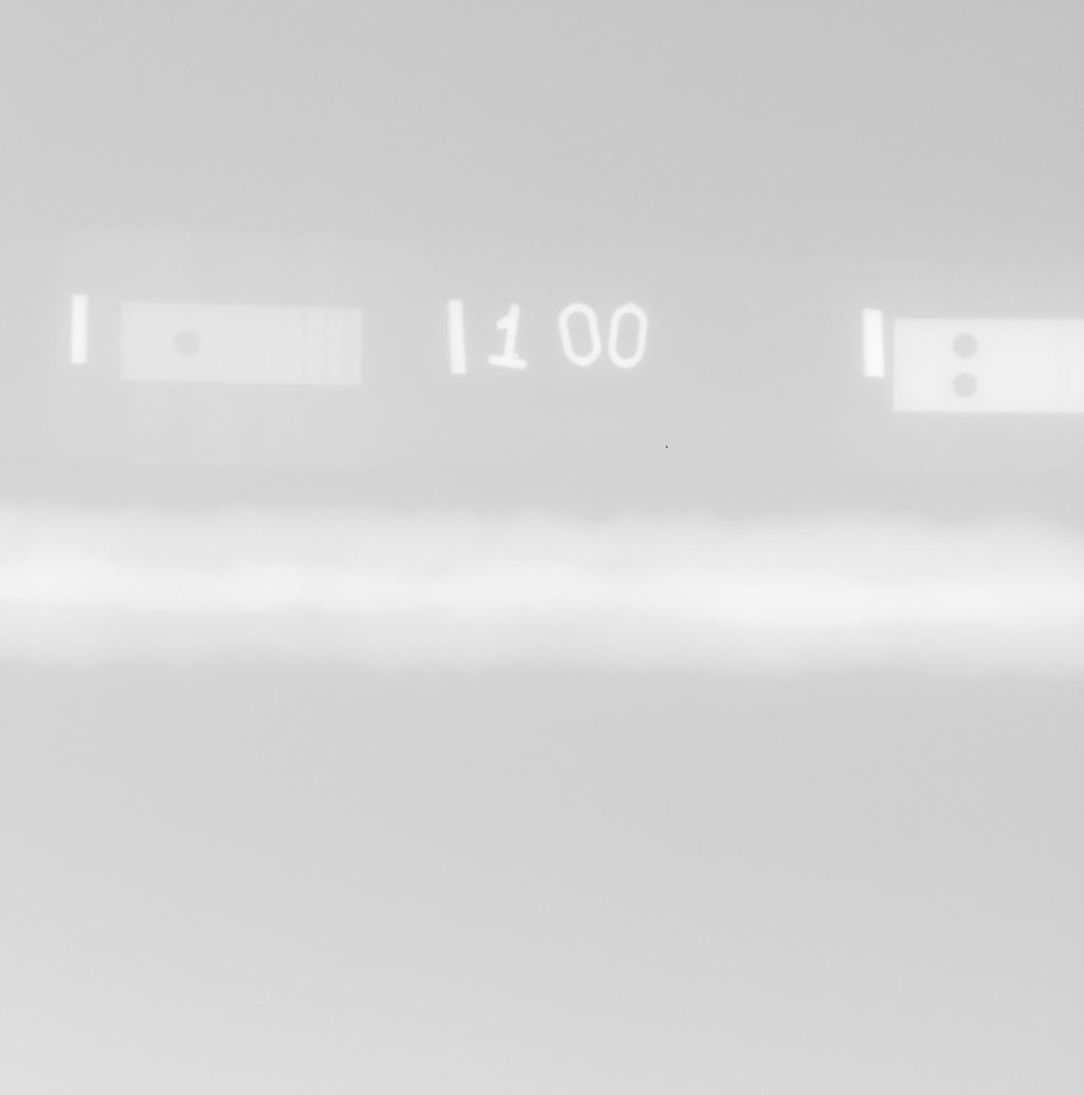Inclusion: (576, 578, 585, 587)
Pore/Porosity: (350, 607, 357, 612)
Reference Standard 1: (121, 303, 362, 385)
